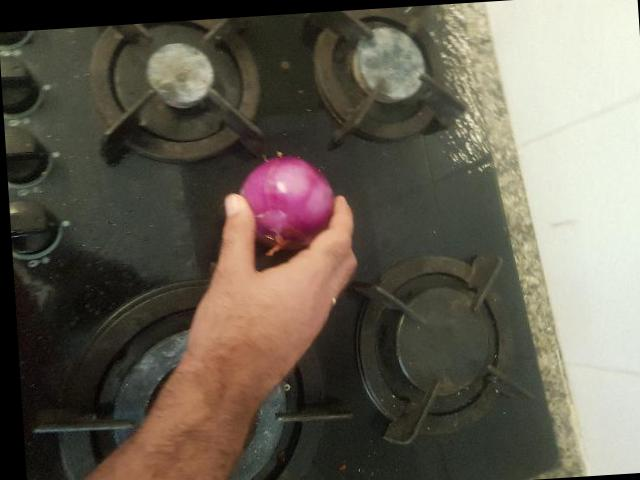onion: (408, 65, 503, 174)
